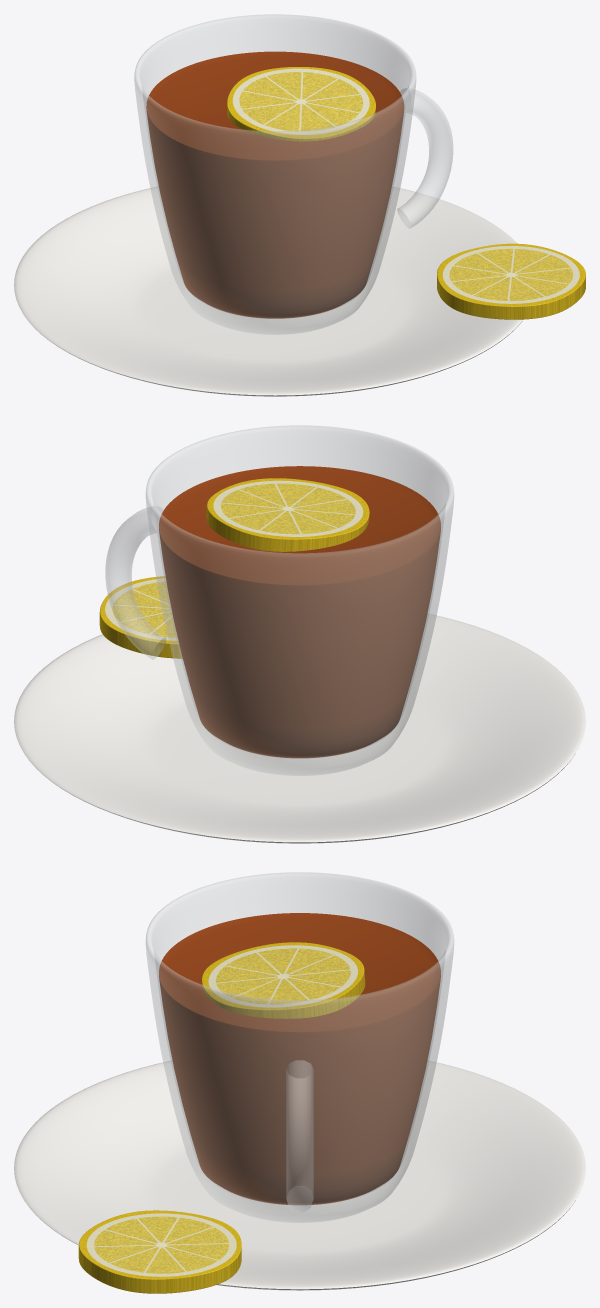
File: black-tea.glb
3 views of the same model, one above another, from view 1: azimuth 30°, elevation 25°; view 2: azimuth 150°, elevation 25°; view 3: azimuth 270°, elevation 25° (orthographic). The views are drawn at different scales.
Parts seen in each view (by area): view 1: base, black-tea, lemon; view 2: base, black-tea, lemon; view 3: base, black-tea, lemon.
Boxes of the visible parts, x1,y1,x2,y2 form: base: [14, 14, 523, 396]; black-tea: [146, 51, 404, 318]; lemon: [227, 67, 585, 319]; base: [14, 425, 585, 843]; black-tea: [159, 466, 440, 757]; lemon: [99, 478, 369, 658]; base: [14, 872, 585, 1290]; black-tea: [159, 913, 440, 1204]; lemon: [78, 942, 365, 1293].
Bounding box in the file's own units: 0.1507 × 0.0786 × 0.1474.
6 materials, 2 textured.
